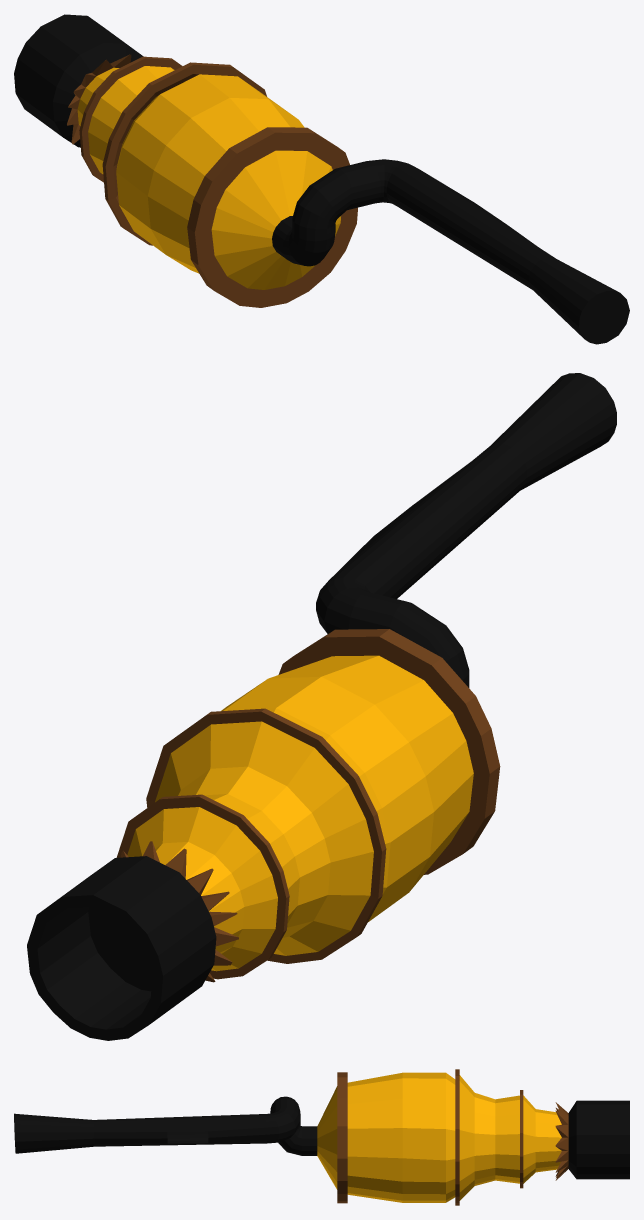
Rendered from left cannon.fbx.
3 views of the same model, one above another, from view 1: azimuth 30°, elevation 25°; view 2: azimuth 150°, elevation 25°; view 3: azimuth 270°, elevation 25° (orthographic). The views are drawn at different scales.
Visible parts, largest first — view 1: SHIP.001; view 2: SHIP.001; view 3: SHIP.001.
Boxes of the visible parts, x1,y1,x2,y2 form: SHIP.001: (14, 14, 629, 344); SHIP.001: (27, 373, 616, 1040); SHIP.001: (14, 1069, 629, 1205).
Size of the model in its own units: 1214 by 1030 by 4629.
